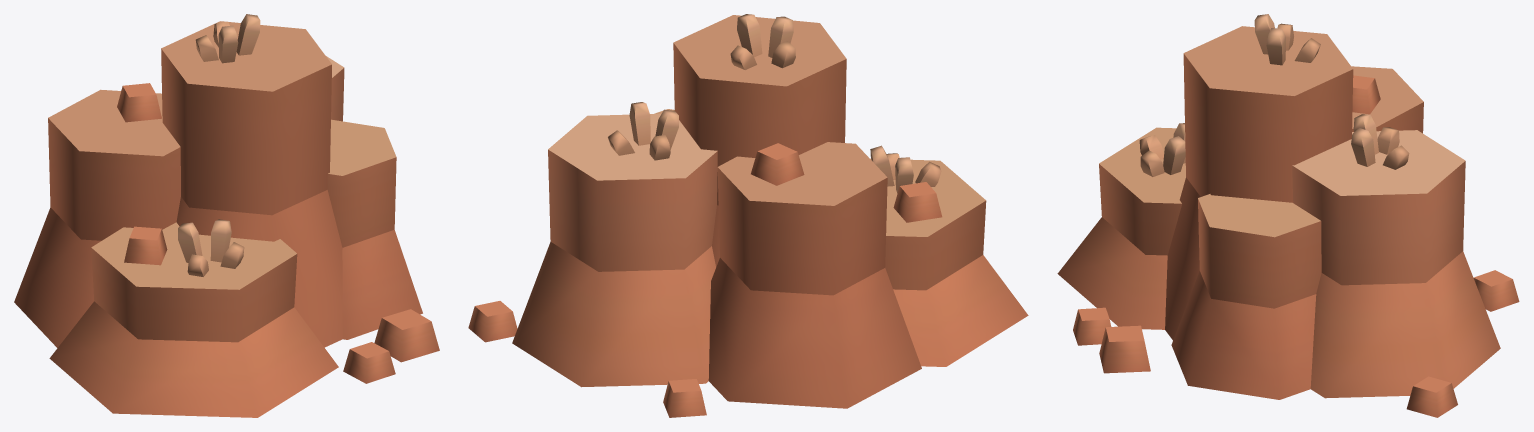
The model's file is kenney-pirate-rocks-sand-c.glb.
3 renders of one model, left to right at view 1: azimuth 30°, elevation 25°; view 2: azimuth 150°, elevation 25°; view 3: azimuth 270°, elevation 25°, orthographic. The views are drawn at different scales.
Visible parts, largest first — view 1: rocks-sand-c; view 2: rocks-sand-c; view 3: rocks-sand-c.
Part boxes in pixels (bbox=[...]): rocks-sand-c: bbox=[14, 14, 439, 417]; rocks-sand-c: bbox=[468, 14, 1028, 417]; rocks-sand-c: bbox=[1057, 14, 1519, 417].
Bounding box in the file's own units: 3.71 × 2.61 × 3.72.
1 material, 1 textured.
